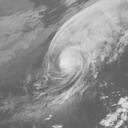cyclone: (42, 25, 99, 93)
